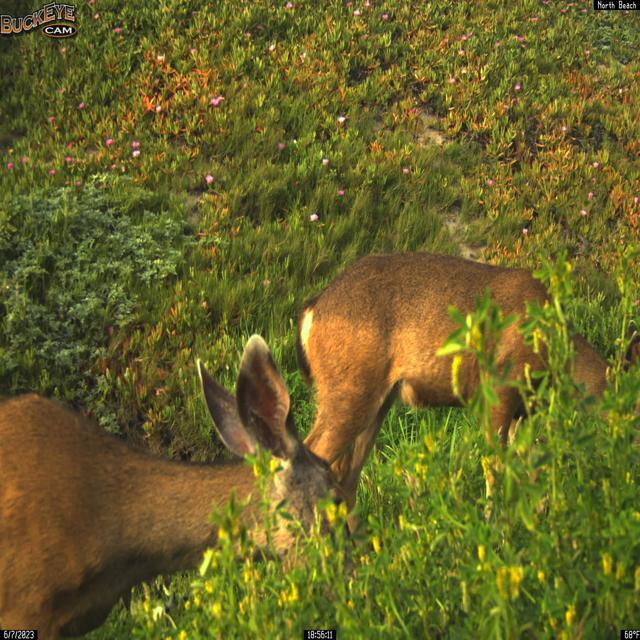deer: (0, 332, 355, 640)
